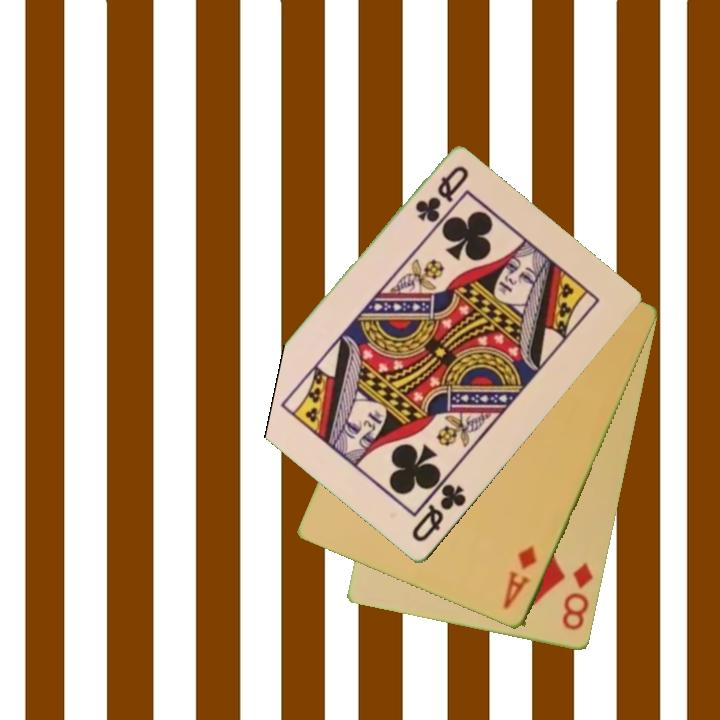8d: (559, 559, 596, 634)
Ad: (500, 543, 540, 613)
Qc: (408, 480, 469, 546), (411, 162, 472, 226)
